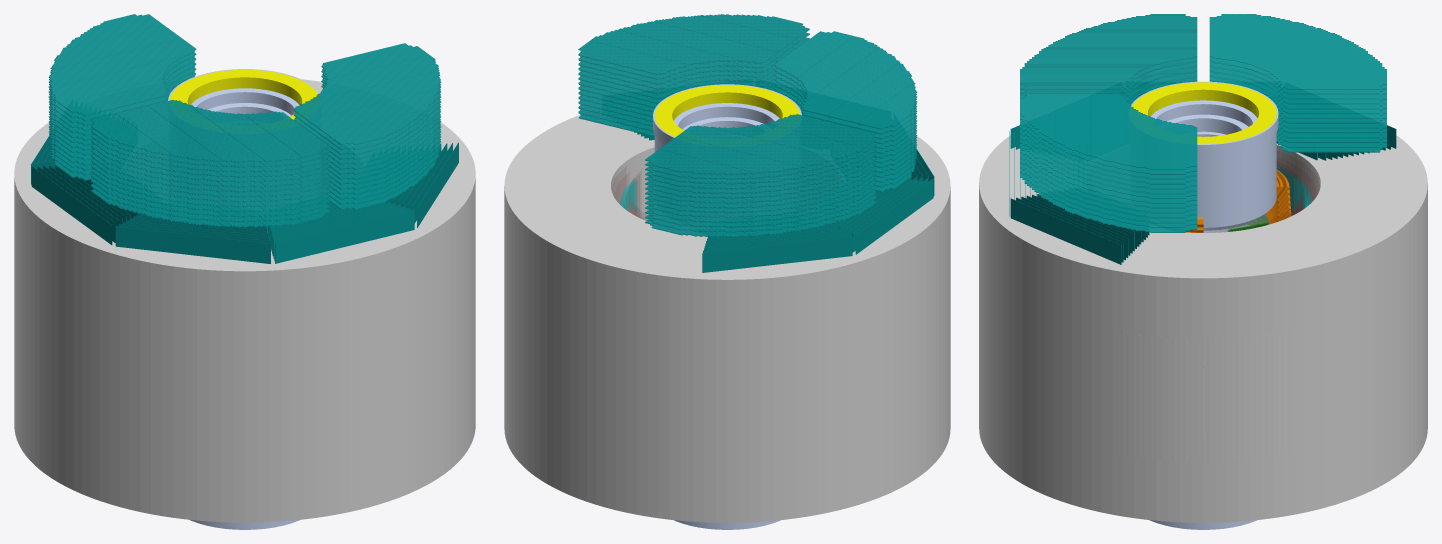
Rendered from BelleIIModel.gltf.
The picture shows the model from 3 angles, left to right: view 1: azimuth 30°, elevation 25°; view 2: azimuth 150°, elevation 25°; view 3: azimuth 270°, elevation 25°; orthographic projection. The views are drawn at different scales.
Visible parts, largest first — view 1: BKLM_EnvelopePhysical, BKLM_B_Physical, StripSensitive_2, StripSensitive_2.001, StripSensitive_1, StripSensitive_1.001, StripSensitive_3, StripSensitive_3.001, BKLM_2, BKLM_3, BKLM_4, pb_shield_fwdyoke_yellow_ring_phys (+3 smaller); view 2: BKLM_EnvelopePhysical, BKLM_B_Physical, StripSensitive_3, StripSensitive_3.001, StripSensitive_1, StripSensitive_1.001, StripSensitive_2, StripSensitive_2.001, BKLM_5, BKLM_4, pb_shield_fwdyoke_yellow_ring_phys, fwdyoke_box_phys (+2 smaller); view 3: BKLM_EnvelopePhysical, BKLM_B_Physical, StripSensitive_1, StripSensitive_1.001, StripSensitive_3, StripSensitive_3.001, BKLM_BackwardSector1Physical, StripSensitive_2, StripSensitive_2.001, fwdyoke_box_phys, BKLM_1, pb_shield_fwdyoke_yellow_ring_phys (+4 smaller).
Boxes of the visible parts, x1=… form: BKLM_EnvelopePhysical: x1=14, y1=79, x2=475, y2=522; BKLM_B_Physical: x1=14, y1=240, x2=475, y2=459; StripSensitive_2: x1=91, y1=100, x2=330, y2=227; StripSensitive_2.001: x1=91, y1=100, x2=329, y2=227; StripSensitive_1: x1=294, y1=43, x2=440, y2=209; StripSensitive_1.001: x1=294, y1=43, x2=440, y2=209; StripSensitive_3: x1=49, y1=14, x2=196, y2=180; StripSensitive_3.001: x1=49, y1=14, x2=195, y2=180; BKLM_2: x1=265, y1=202, x2=414, y2=263; BKLM_3: x1=115, y1=214, x2=270, y2=263; BKLM_4: x1=31, y1=165, x2=140, y2=244; pb_shield_fwdyoke_yellow_ring_phys: x1=170, y1=69, x2=317, y2=119; BKLM_EnvelopePhysical: x1=504, y1=115, x2=950, y2=522; BKLM_B_Physical: x1=504, y1=211, x2=950, y2=462; StripSensitive_3: x1=645, y1=114, x2=876, y2=237; StripSensitive_3.001: x1=645, y1=114, x2=876, y2=237; StripSensitive_1: x1=578, y1=14, x2=809, y2=136; StripSensitive_1.001: x1=578, y1=14, x2=809, y2=136; StripSensitive_2: x1=774, y1=31, x2=917, y2=192; StripSensitive_2.001: x1=775, y1=31, x2=916, y2=191; BKLM_5: x1=702, y1=224, x2=852, y2=272; BKLM_4: x1=828, y1=177, x2=933, y2=254; pb_shield_fwdyoke_yellow_ring_phys: x1=654, y1=85, x2=799, y2=137; fwdyoke_box_phys: x1=653, y1=84, x2=801, y2=152; BKLM_EnvelopePhysical: x1=979, y1=135, x2=1427, y2=522; BKLM_B_Physical: x1=979, y1=212, x2=1427, y2=461; StripSensitive_1: x1=1020, y1=94, x2=1197, y2=232; StripSensitive_1.001: x1=1020, y1=94, x2=1196, y2=232; StripSensitive_3: x1=1209, y1=14, x2=1386, y2=152; StripSensitive_3.001: x1=1210, y1=14, x2=1386, y2=152; BKLM_BackwardSector1Physical: x1=1117, y1=332, x2=1289, y2=461; StripSensitive_2: x1=1020, y1=14, x2=1197, y2=104; StripSensitive_2.001: x1=1020, y1=14, x2=1196, y2=104; fwdyoke_box_phys: x1=1131, y1=81, x2=1278, y2=230; BKLM_1: x1=1010, y1=194, x2=1149, y2=264; pb_shield_fwdyoke_yellow_ring_phys: x1=1132, y1=82, x2=1276, y2=144.
Size of what is drawn, in the model's own units: 7653 by 7652 by 7653.
